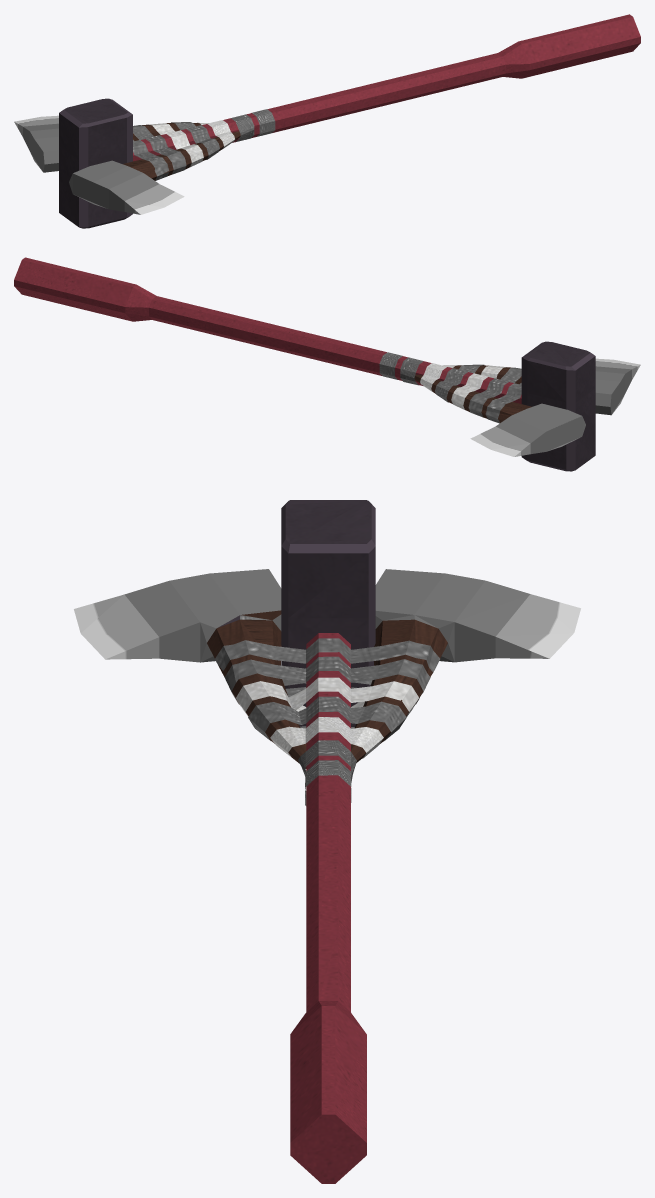
Rendered from DespoilerSledgehammer.fbx.
3 renders of one model, top to bottom at view 1: azimuth 30°, elevation 25°; view 2: azimuth 150°, elevation 25°; view 3: azimuth 270°, elevation 25°, orthographic. The views are drawn at different scales.
Visible parts, largest first — view 1: ZomboidDespoiler; view 2: ZomboidDespoiler; view 3: ZomboidDespoiler.
Part boxes in pixels (x1=…): ZomboidDespoiler: x1=14, y1=14, x2=640, y2=228; ZomboidDespoiler: x1=14, y1=257, x2=640, y2=471; ZomboidDespoiler: x1=74, y1=500, x2=580, y2=1183.
Size of the model in its own units: 0.8298 by 0.1448 by 0.3174.
